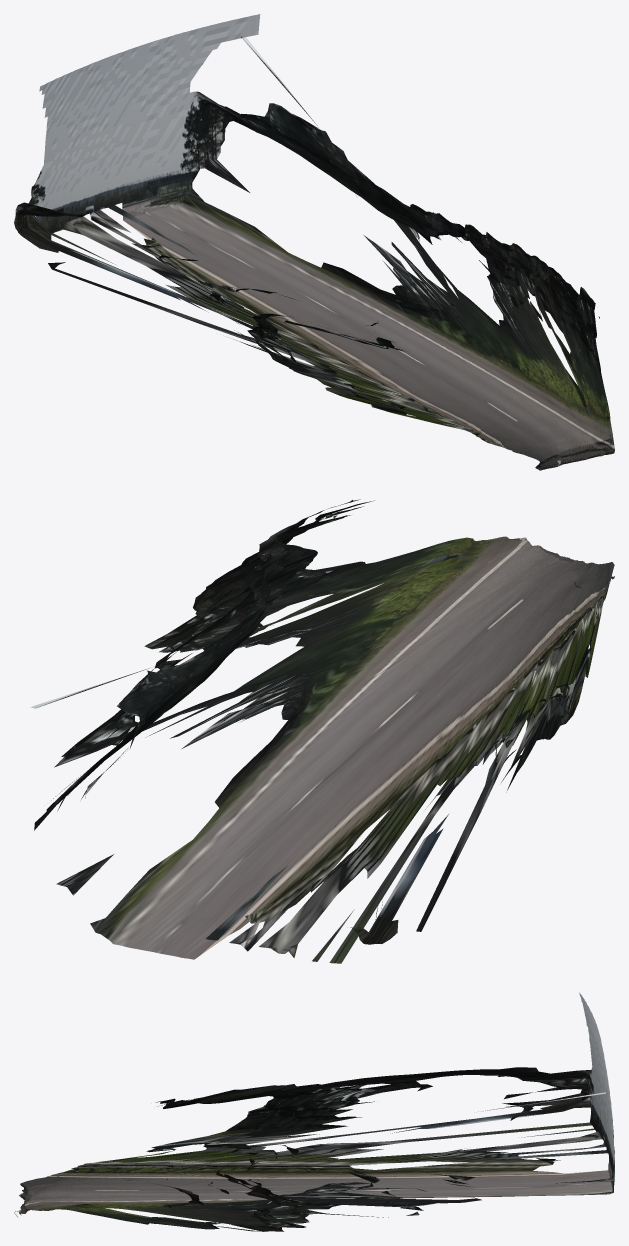
The picture shows the model from 3 angles, top to bottom: view 1: azimuth 30°, elevation 25°; view 2: azimuth 150°, elevation 25°; view 3: azimuth 270°, elevation 25°; orthographic projection. The views are drawn at different scales.
Parts seen in each view (by area): view 1: defaultobject; view 2: defaultobject; view 3: defaultobject.
Boxes of the visible parts, x1=… form: defaultobject: x1=14, y1=14, x2=614, y2=470; defaultobject: x1=30, y1=499, x2=614, y2=963; defaultobject: x1=14, y1=992, x2=614, y2=1231.
Bounding box in the file's own units: 24.14 × 11.89 × 44.63.
Materials: 1 (1 with a texture image).
